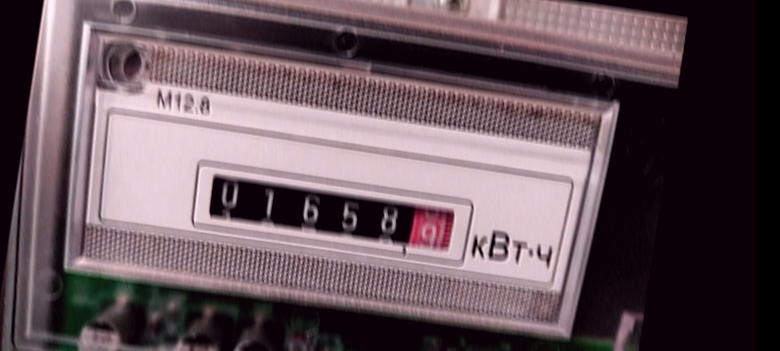0: (219, 176, 245, 211)
1: (263, 187, 280, 219)
5: (341, 199, 365, 234)
6: (302, 192, 326, 226)
8: (380, 203, 404, 237)
9: (419, 221, 441, 249)
screen: (183, 152, 482, 272)
